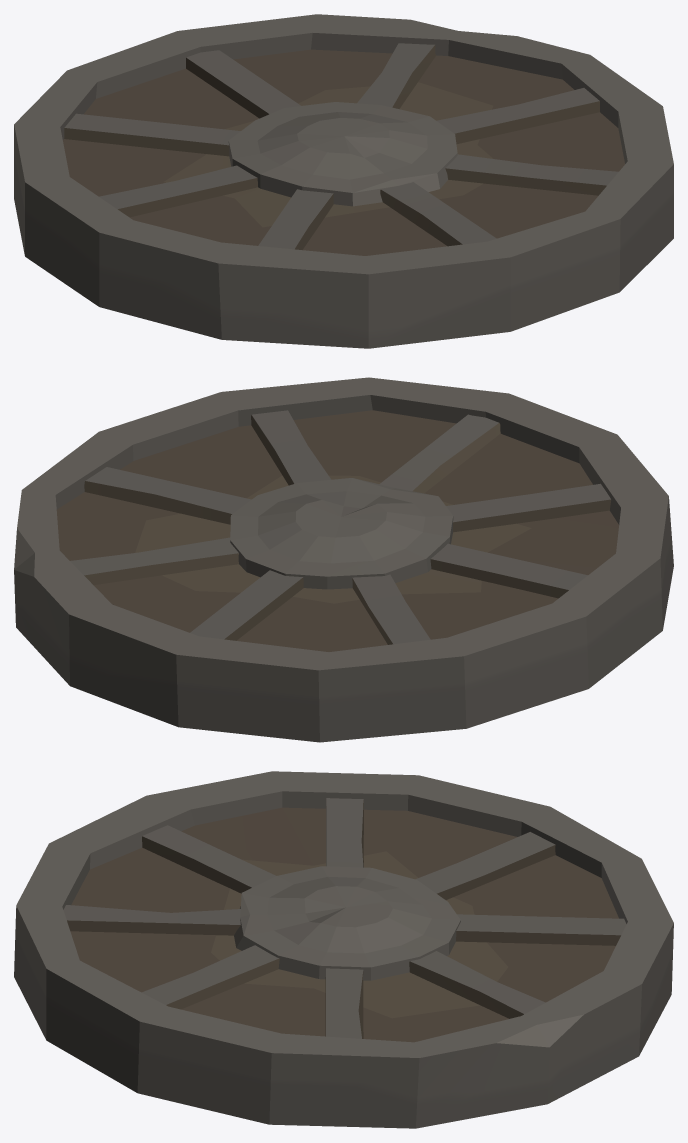
File: apoc_SM_Prop_Manhole_01.gltf
The picture shows the model from 3 angles, top to bottom: view 1: azimuth 30°, elevation 25°; view 2: azimuth 150°, elevation 25°; view 3: azimuth 270°, elevation 25°; orthographic projection.
Visible parts, largest first — view 1: SM_Prop_Manhole_01; view 2: SM_Prop_Manhole_01; view 3: SM_Prop_Manhole_01.
Boxes of the visible parts, x1,y1,x2,y2 form: SM_Prop_Manhole_01: (14,14,673,348); SM_Prop_Manhole_01: (14,377,673,742); SM_Prop_Manhole_01: (14,771,673,1128).
Size of the model in its own units: 0.9972 by 0.1582 by 1.02.
Materials: 1 (1 with a texture image).
